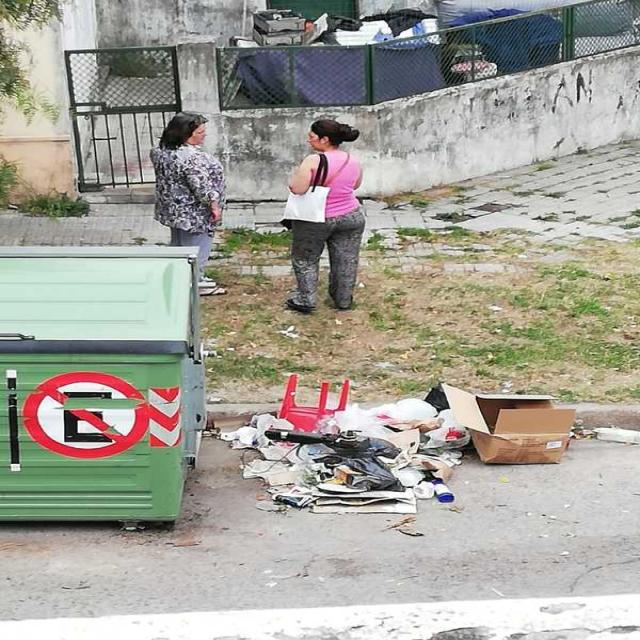garbage: (220, 364, 578, 534)
